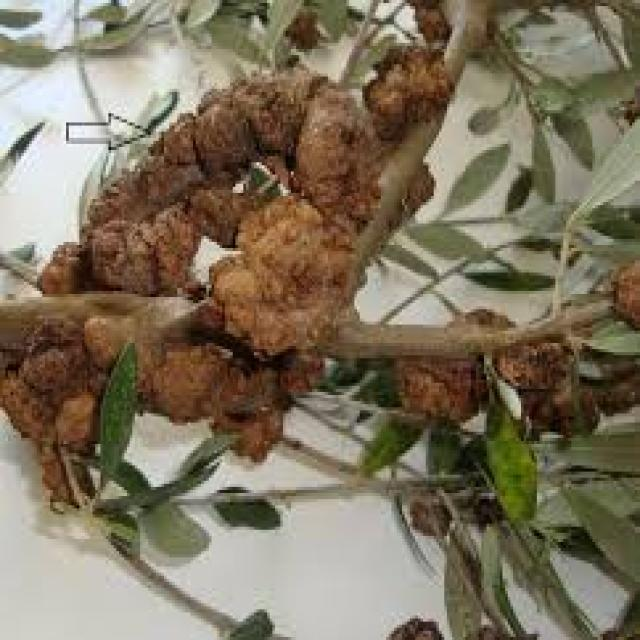Tuberculosis: (0, 43, 450, 496), (495, 333, 637, 429), (397, 355, 484, 420)
